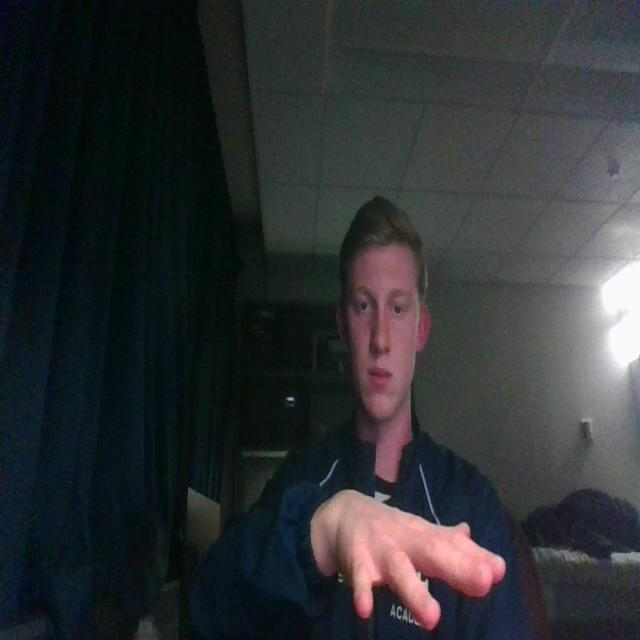paper: (316, 481, 511, 632)
